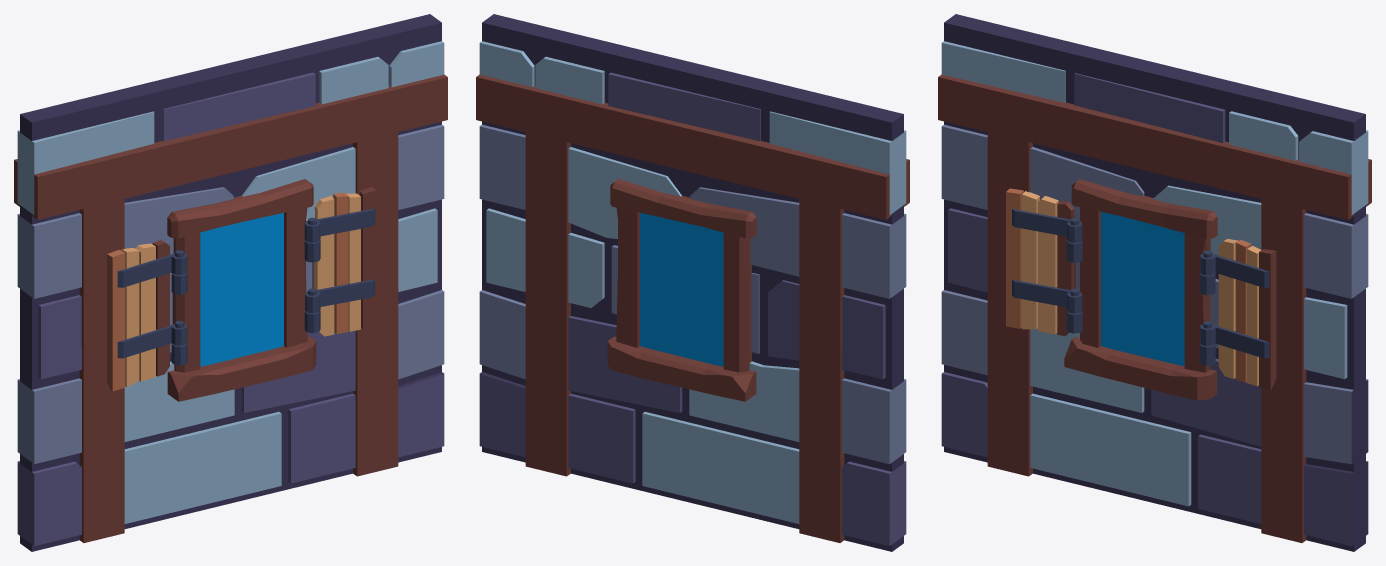
File: Modular Wall 09 MK2 W2.fbx
3 views of the same model, side by side, from view 1: azimuth 30°, elevation 25°; view 2: azimuth 150°, elevation 25°; view 3: azimuth 330°, elevation 25° (orthographic).
Visible parts, largest first — view 1: Modular Wall 09 MK2 W2, WindowSiding 01.020, WindowSiding 02.020; view 2: Modular Wall 09 MK2 W2; view 3: Modular Wall 09 MK2 W2, WindowSiding 01.020, WindowSiding 02.020.
Part boxes in pixels (box(x1,y1,x2,y2)): Modular Wall 09 MK2 W2: box(14, 14, 447, 551); WindowSiding 01.020: box(107, 239, 187, 391); WindowSiding 02.020: box(304, 186, 376, 336); Modular Wall 09 MK2 W2: box(476, 14, 909, 551); Modular Wall 09 MK2 W2: box(938, 14, 1371, 551); WindowSiding 01.020: box(1006, 188, 1082, 336); WindowSiding 02.020: box(1200, 238, 1276, 390).
Size of the model in its own units: 400 by 400 by 66.15.
